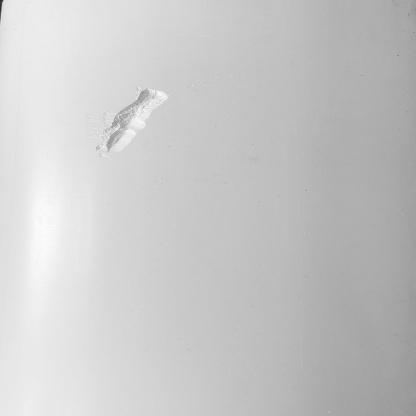sunshang: (89, 87, 173, 154)
